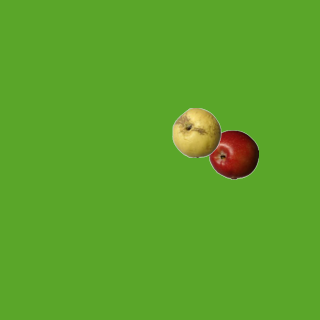Apple Braeburn: (208, 129, 258, 179)
Apple Golden 1: (171, 107, 221, 157)
